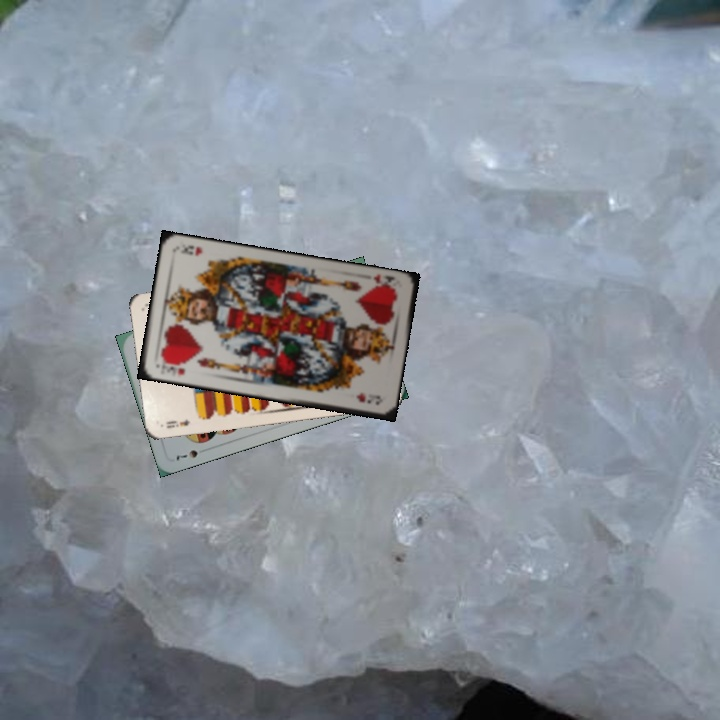E9: (162, 415, 192, 431)
HK: (367, 271, 398, 293), (159, 357, 188, 379)
S7: (171, 446, 200, 463)
